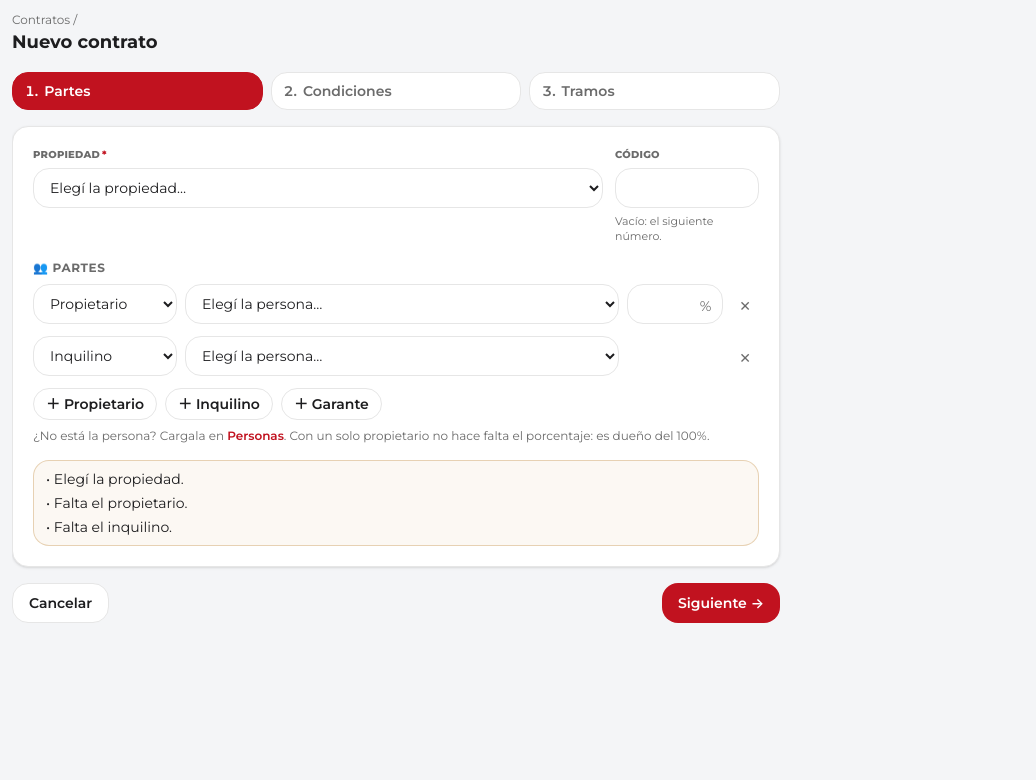
ContratoForm — Entrega A de Vacker (Florencia, 15/10/2026) › regla 99: sin configuración, lo mismo que proponía antes
The image size is (1036, 780).
Select "Calle 123 2° A · Rosario" in the dropdown labelled "Propiedad*" at (318, 188), box [33, 168, 603, 208]
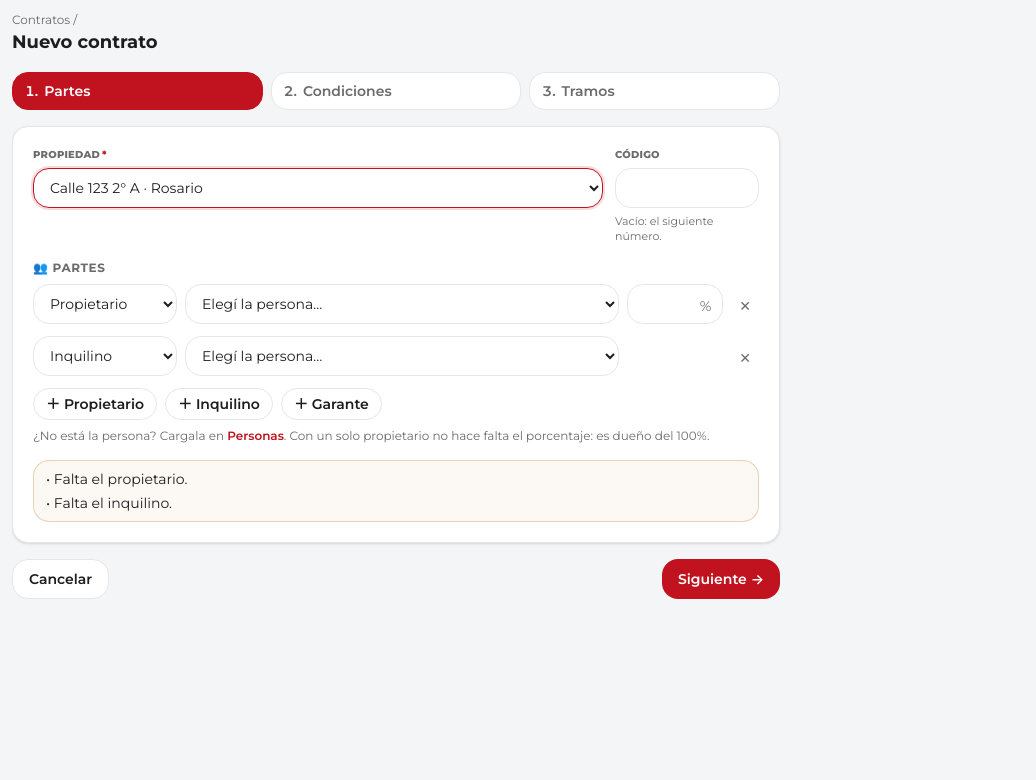
Select "Dueño Uno" in the dropdown named "Persona (propietario)" at (402, 304), box [185, 284, 619, 324]
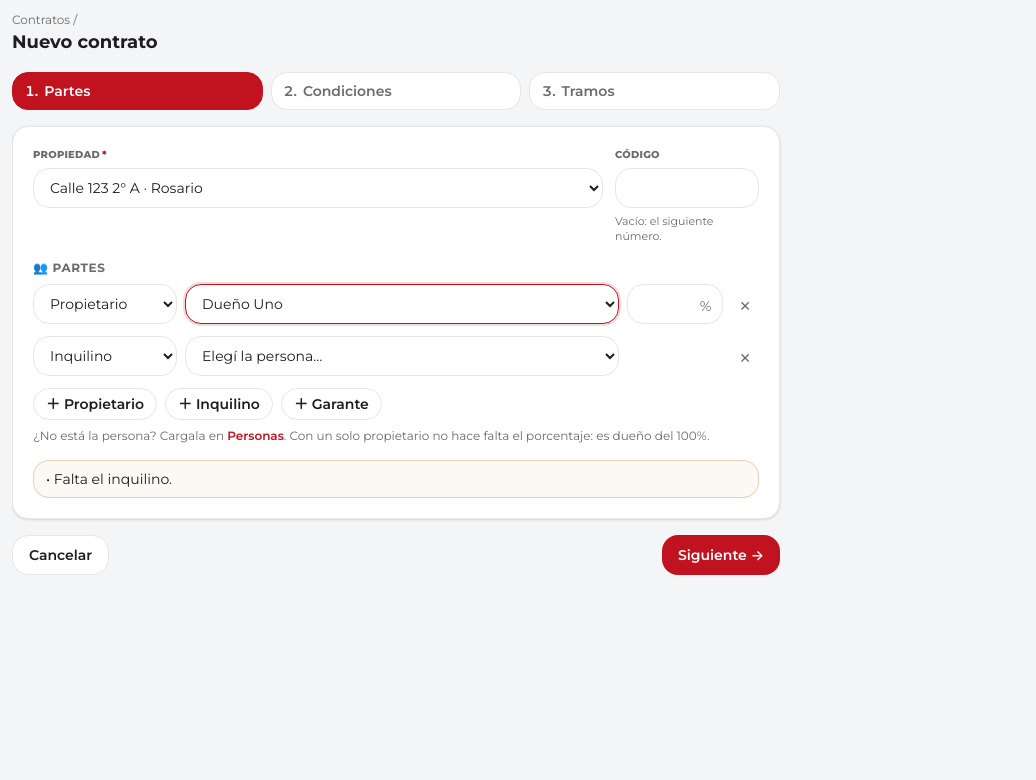
Select "Inquilina Dos" in the dropdown named "Persona (inquilino)" at (402, 356), box [185, 336, 619, 376]
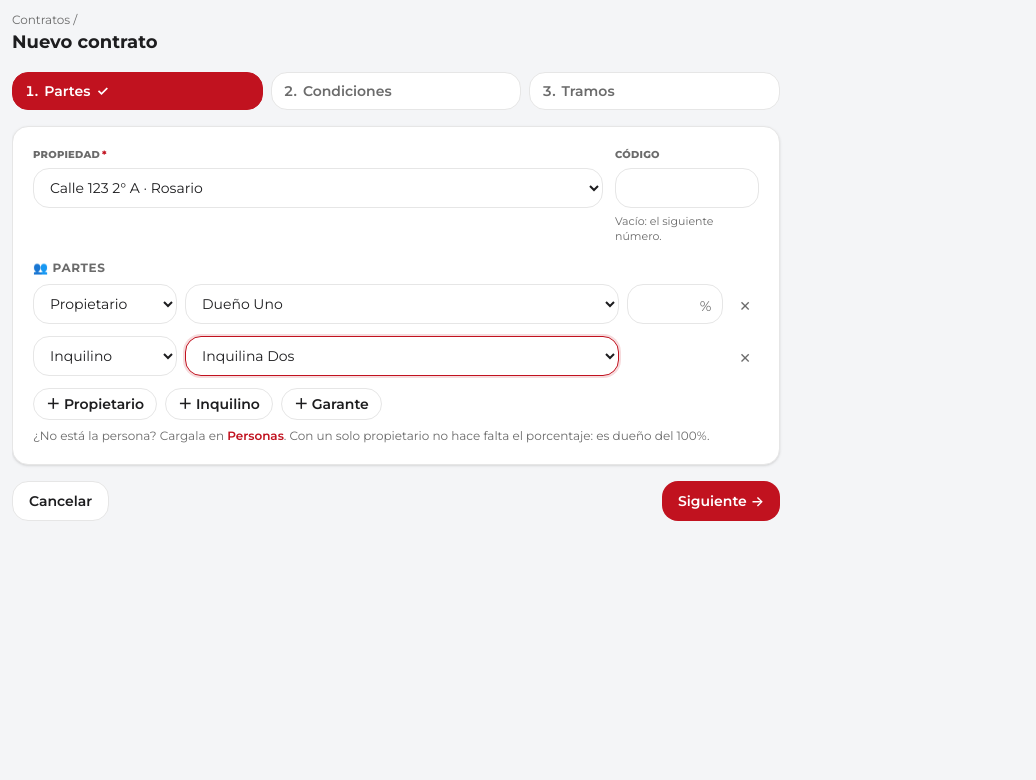
Click the button "Siguiente →" at (721, 501), box [662, 481, 780, 521]
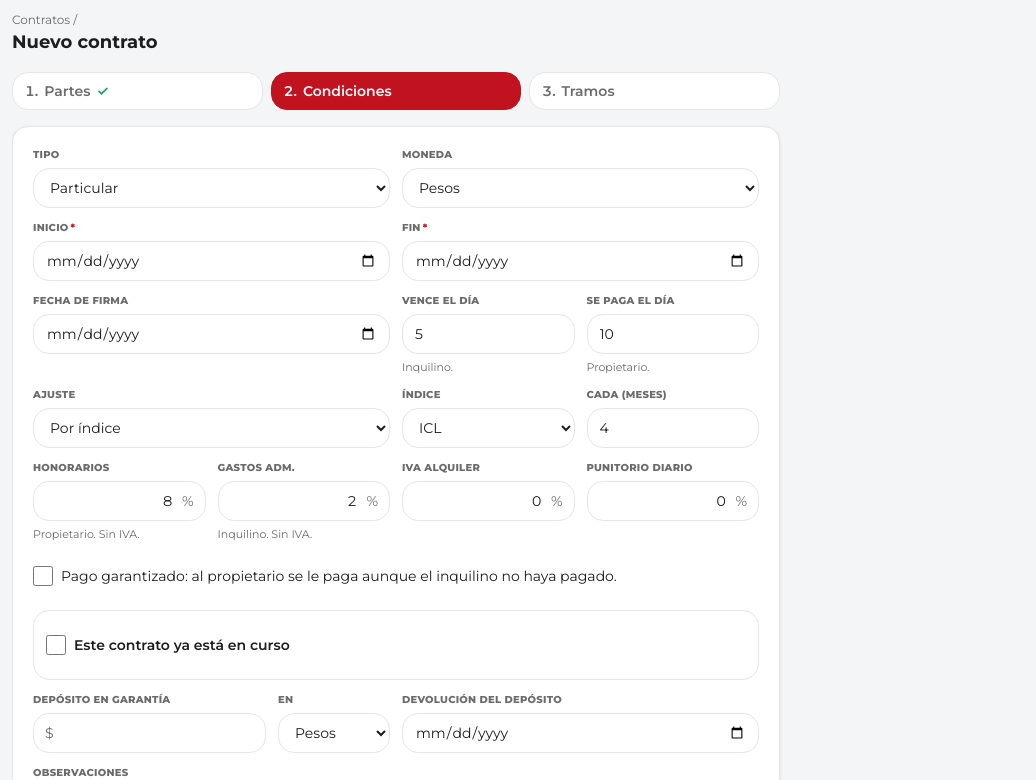
Result: the field labelled "Honorarios % Propietario. Sin IVA." holds "8" at [33, 481, 206, 521]
Result: the field labelled "Gastos adm. % Inquilino. Sin IVA." holds "2" at [218, 481, 390, 521]
Result: the field labelled "Punitorio diario %" holds "0" at [586, 481, 759, 521]
